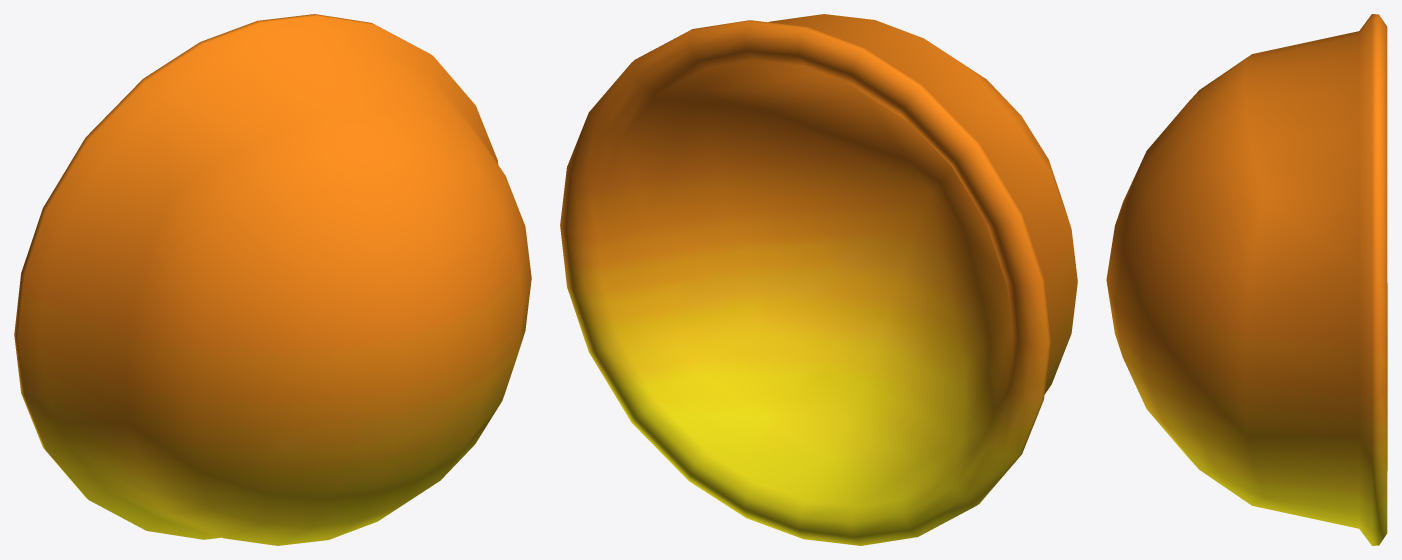
The model's file is Amongus02_Cut_029_0.FBX.
The picture shows the model from 3 angles, left to right: view 1: azimuth 30°, elevation 25°; view 2: azimuth 150°, elevation 25°; view 3: azimuth 270°, elevation 25°; orthographic projection. The views are drawn at different scales.
Parts seen in each view (by area): view 1: Amongus02_Cut_029_0; view 2: Amongus02_Cut_029_0; view 3: Amongus02_Cut_029_0.
Boxes of the visible parts, x1,y1,x2,y2 form: Amongus02_Cut_029_0: (14, 14, 531, 545); Amongus02_Cut_029_0: (560, 14, 1077, 545); Amongus02_Cut_029_0: (1106, 14, 1387, 545).
Size of the model in its own units: 0.7584 by 0.4 by 0.7584.
